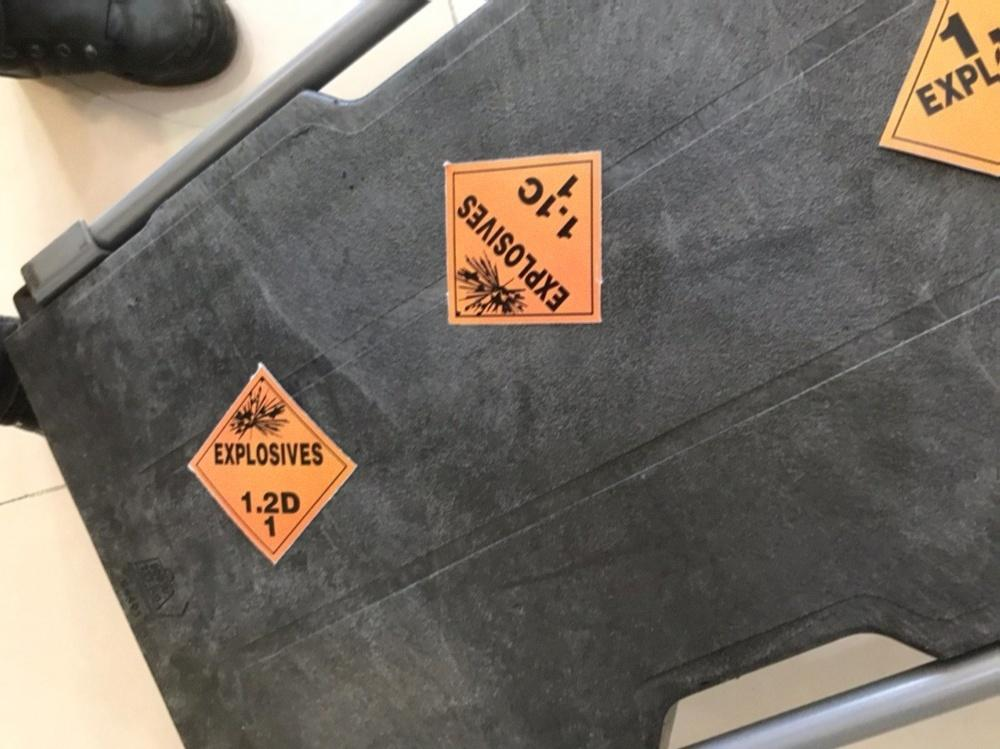explosive: (443, 149, 607, 322)
radioactive: (185, 360, 363, 568)
